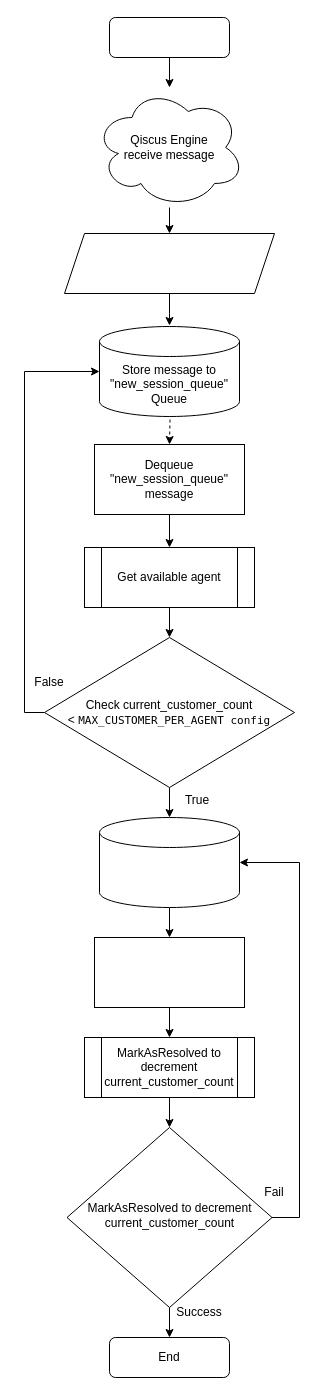
Image size: 325x1395. Some labels were removed from this diagram. The centre of each missing label's shape, as x and y in pixels:
Customer: (169,37)
Dequeue "assigned" message: (169,972)
Forward message to Webhook: (169,263)
Store message to "assigned" Queue: (169,862)
